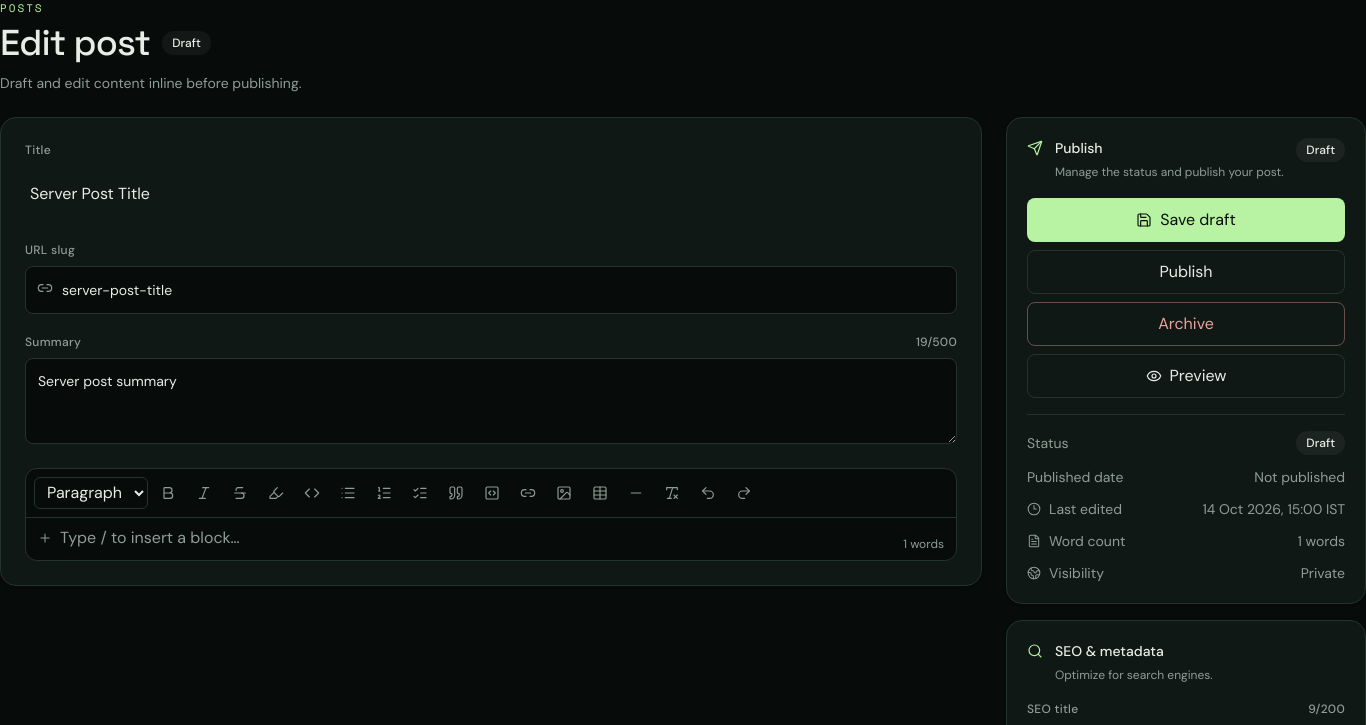
Test: PostEditor flows › Item (4): Visible accessible placeholder in preview for relative img src (issue #30) › renders a visible accessible placeholder in the preview dialog for relative images not starting with /media/
// Open the preview dialog
Click the button "Preview". click: [1186, 376]
box: [1027, 354, 1345, 398]
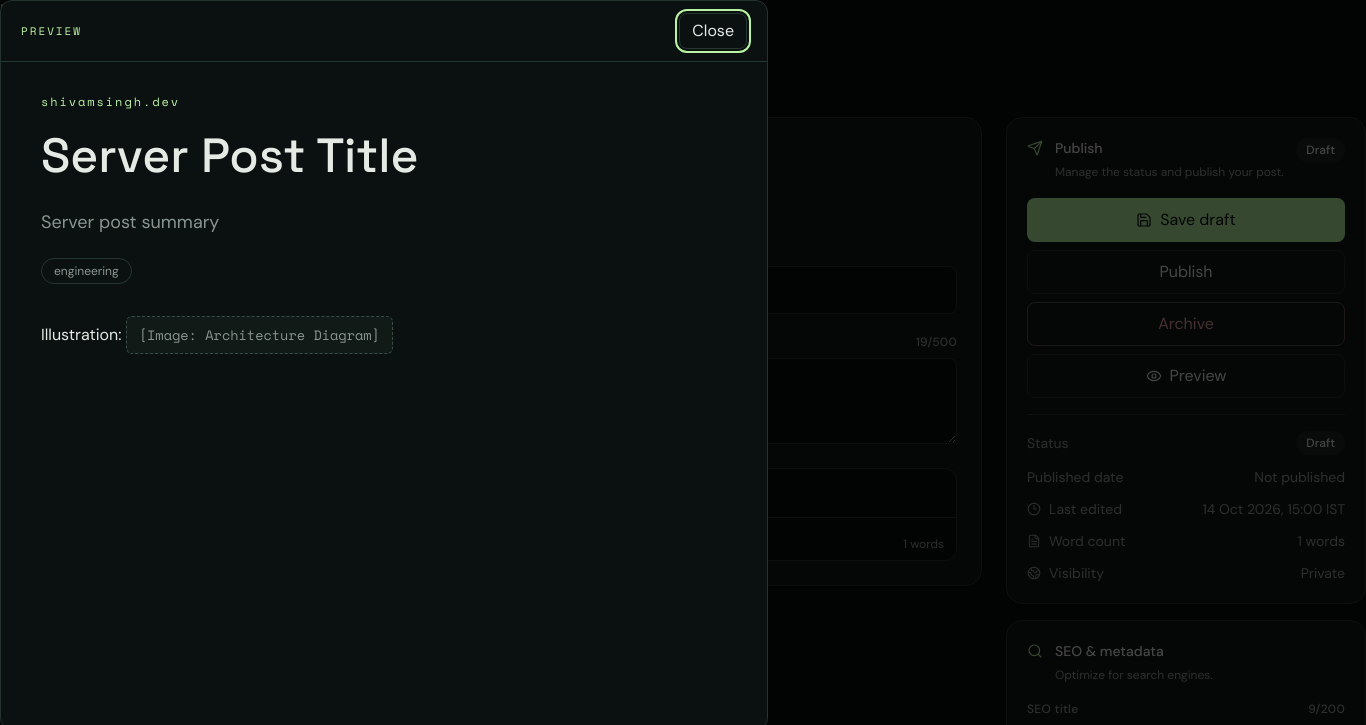
Now the element with class "blog-preview-body" is shown, box [41, 316, 393, 354]
Now the picture "Architecture Diagram" is shown, box [126, 316, 393, 354]
Now the picture "Architecture Diagram" reads "[Image: Architecture Diagram]", box [139, 325, 380, 345]
